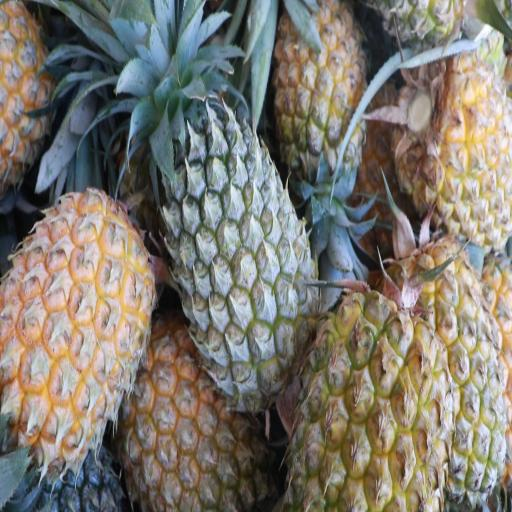------------------------------: (272, 0, 369, 204)
Pineapple - v8 v1: (0, 194, 149, 456), (286, 296, 448, 512), (388, 254, 509, 506), (119, 327, 278, 512), (386, 49, 511, 250)
